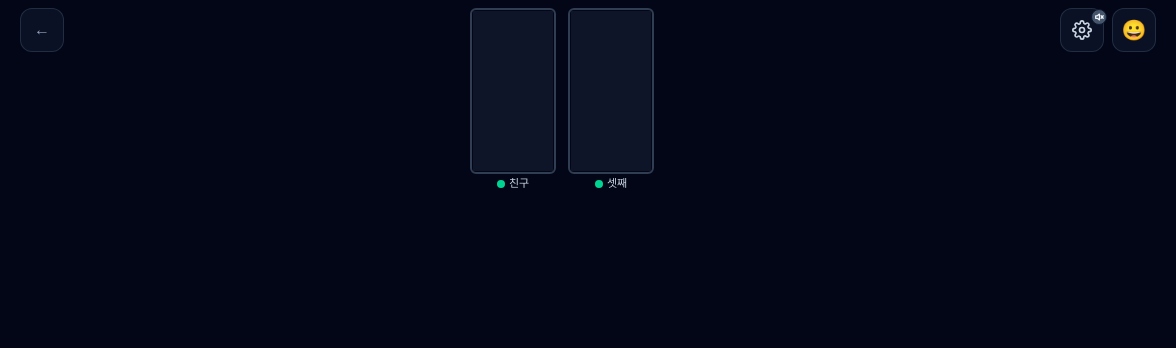
Test: BattleView 상대 판 크게 보기 (FE-28) › 관전 중이면 상대 판을 눌러 크게 보고, 돌아가기로 원래 판에 포커스
The width and height of the screenshot is (1176, 348).
What coordinates should you click on to do the following:
click the button with aria-label "친구 화면 크게 보기"
I would click on:
 (513, 98)
Its box is [470, 8, 556, 189].
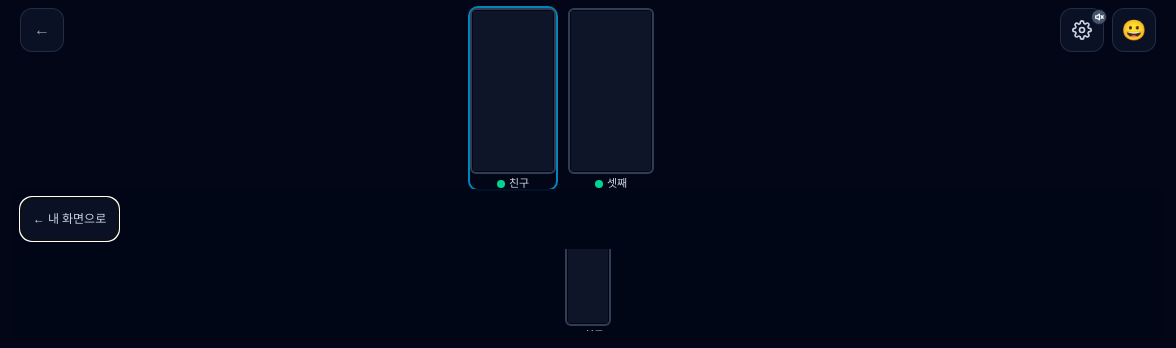
What coordinates should you click on to do the following:
click the button "← 내 화면으로"
I would click on:
 (70, 219)
Its box is [20, 197, 119, 241].
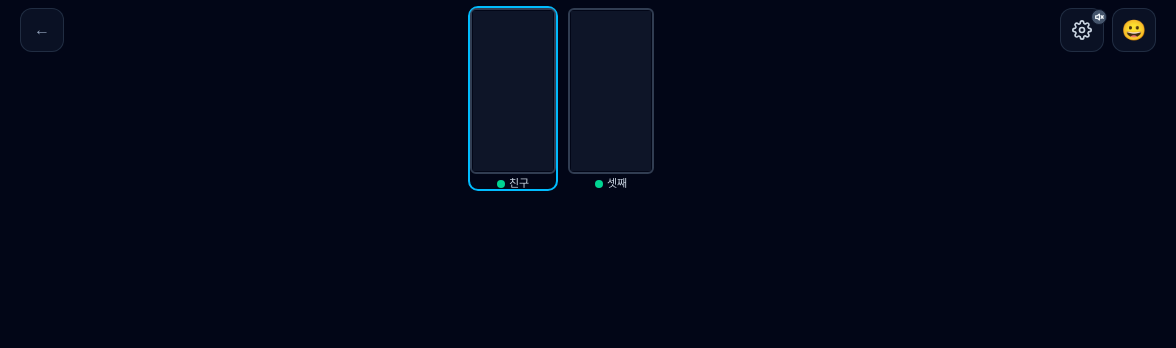
expect the button "← 내 화면으로" is gone: met
